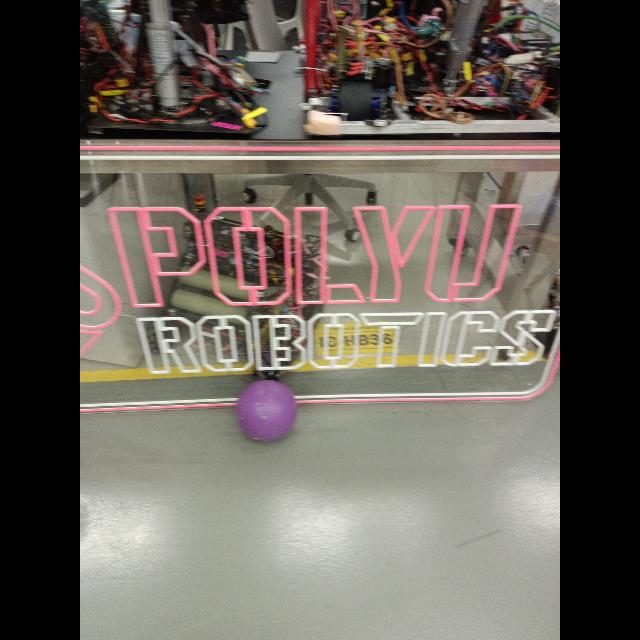P: (235, 378, 297, 444)
